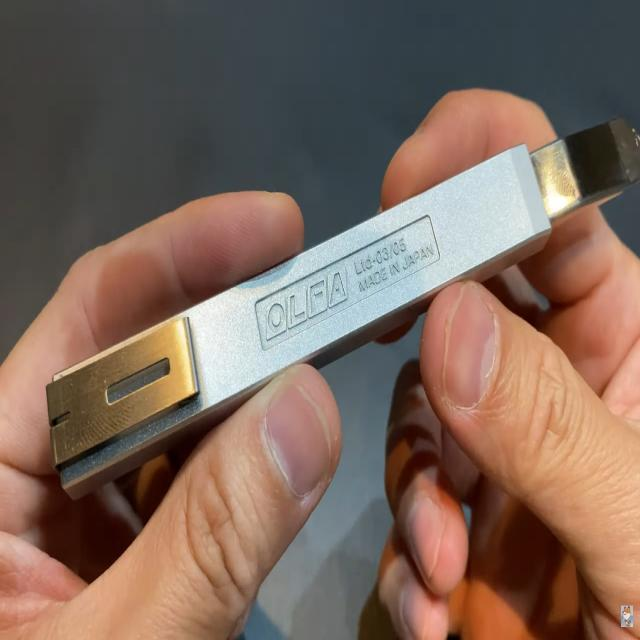cutter: (2, 59, 640, 546)
